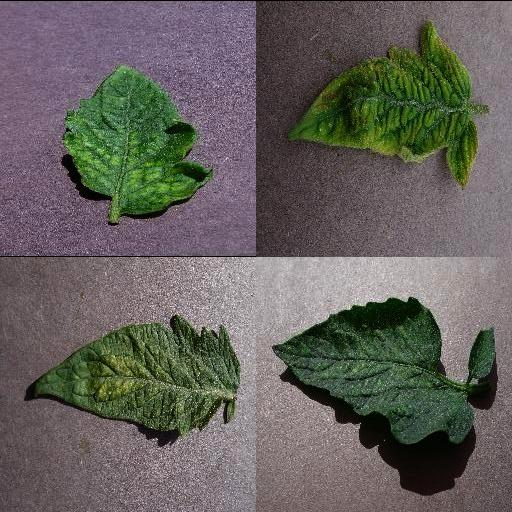Mosaic Virus: (62, 62, 212, 216)
Spider Mites: (272, 295, 474, 443), (31, 312, 241, 434)
Yellow Leaf Curl Virus: (285, 19, 475, 189)
